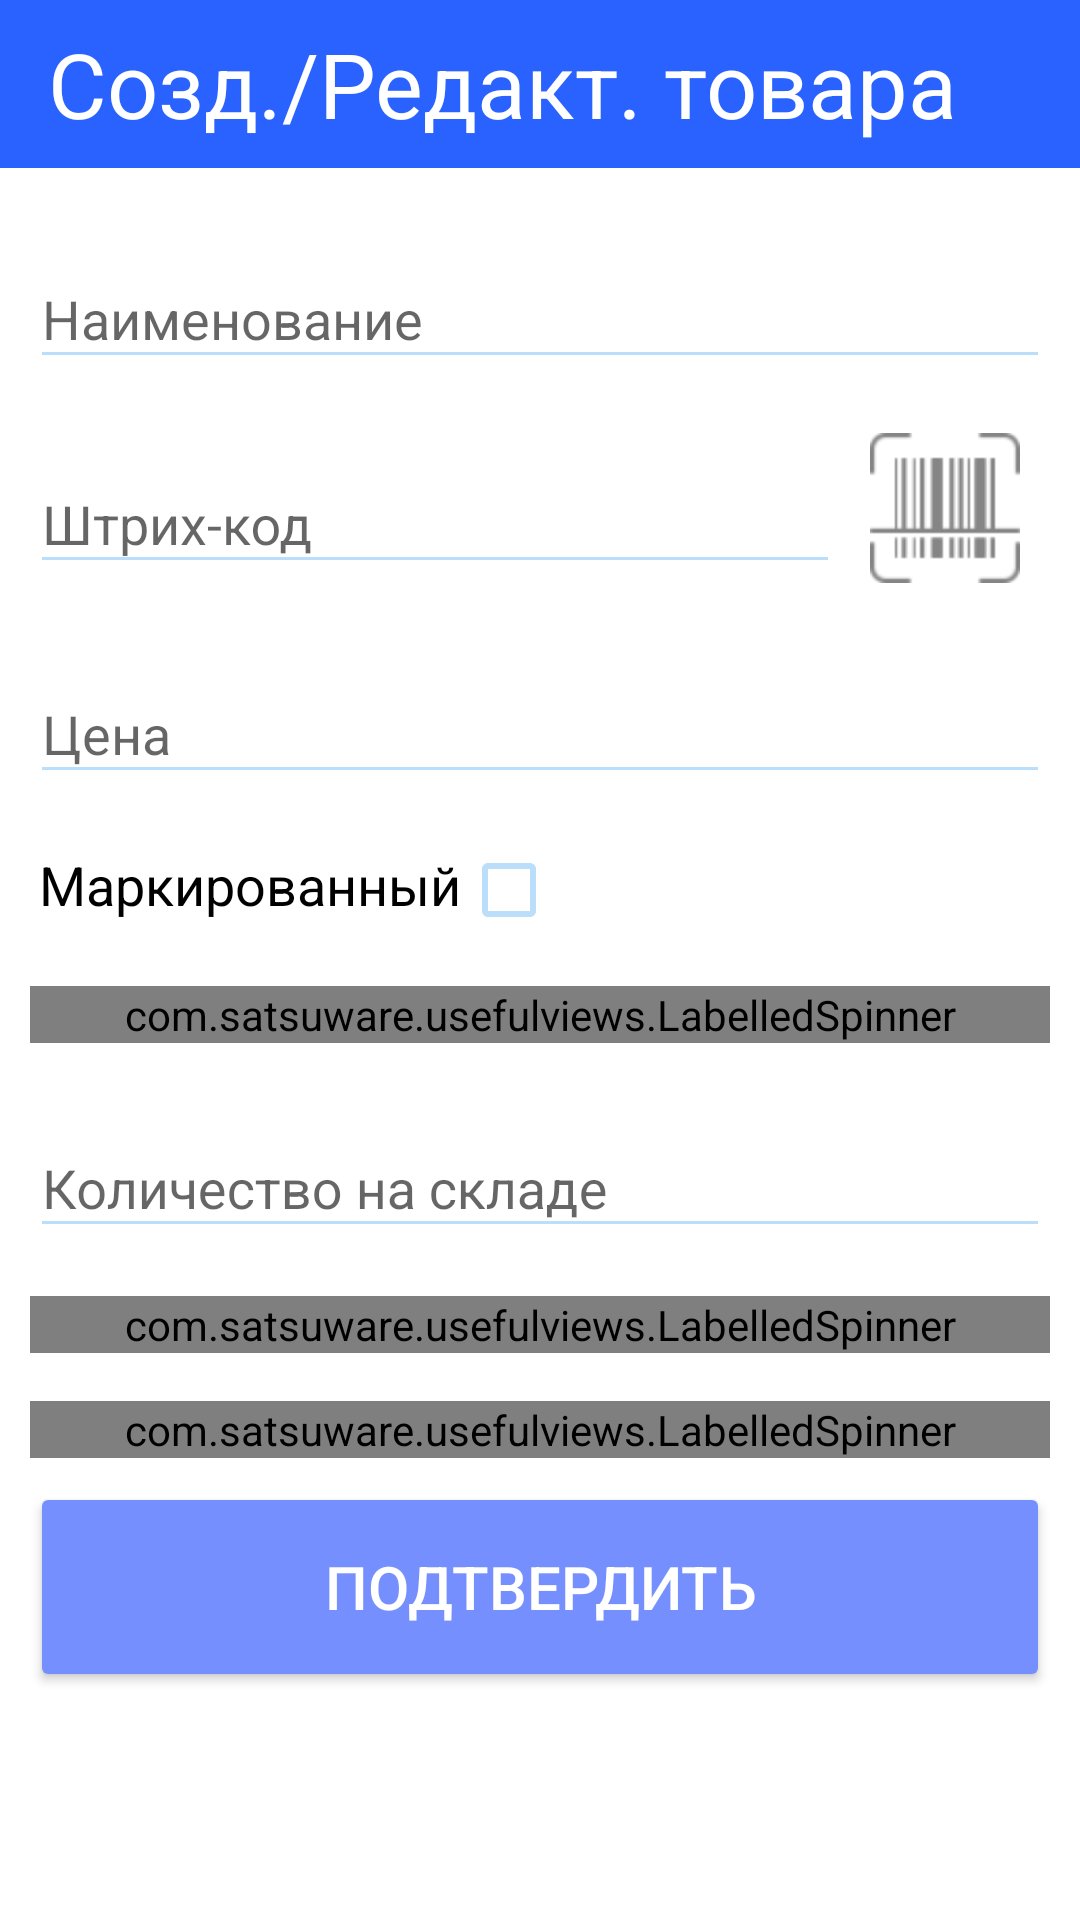

Icons on this 1080px x 1920px Android screen, each with its box as (x1, y1, x2, y2):
Штрих-код: (870, 433, 1020, 583)
